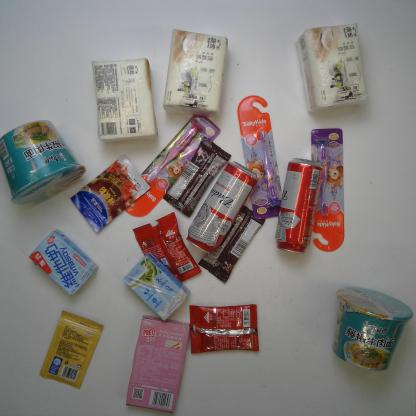Alcohol: (186, 160, 258, 255), (274, 158, 324, 254)
Chocolate: (162, 136, 231, 218), (197, 204, 266, 283)
Dessert: (125, 314, 190, 412)
Instant Drink: (132, 211, 202, 284), (189, 304, 259, 354)
Instant Noodles: (0, 120, 86, 206), (332, 286, 414, 371)
Milk: (28, 229, 99, 297), (124, 251, 192, 321)
Personal Hygiene: (124, 114, 222, 218), (236, 95, 283, 220), (310, 128, 345, 252)
Seasoner: (70, 154, 152, 233), (38, 310, 104, 390)
Tissue: (296, 22, 367, 114), (163, 28, 228, 117), (92, 57, 158, 143)
